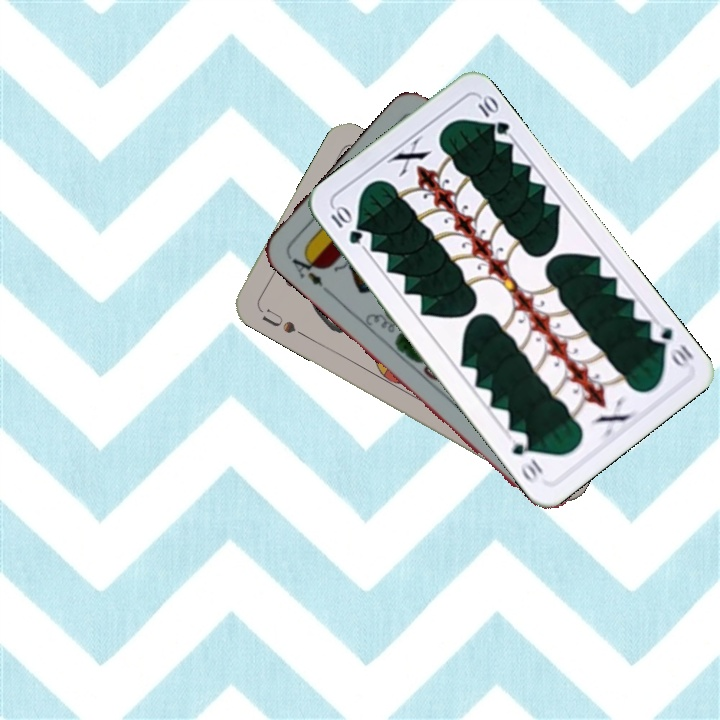EA: (283, 248, 326, 290)
G10: (645, 317, 697, 372), (326, 202, 366, 247)
SU: (255, 304, 309, 340)
